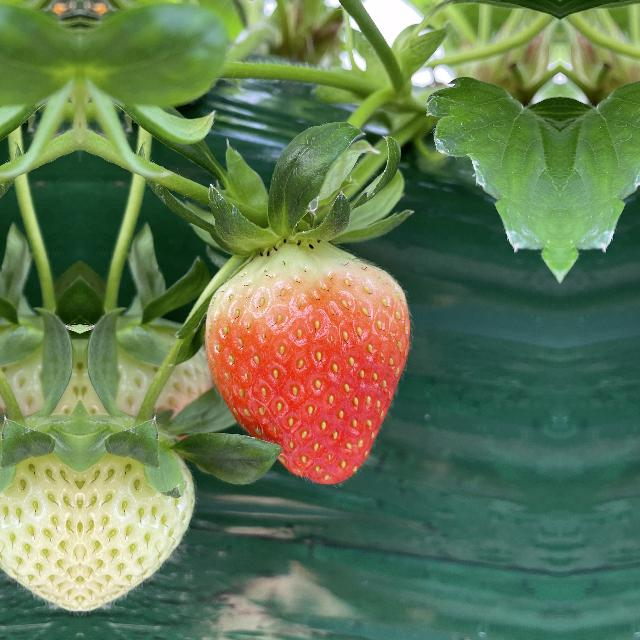Health_100: (201, 245, 439, 485)
Health_25: (80, 414, 194, 616), (0, 413, 80, 616)
